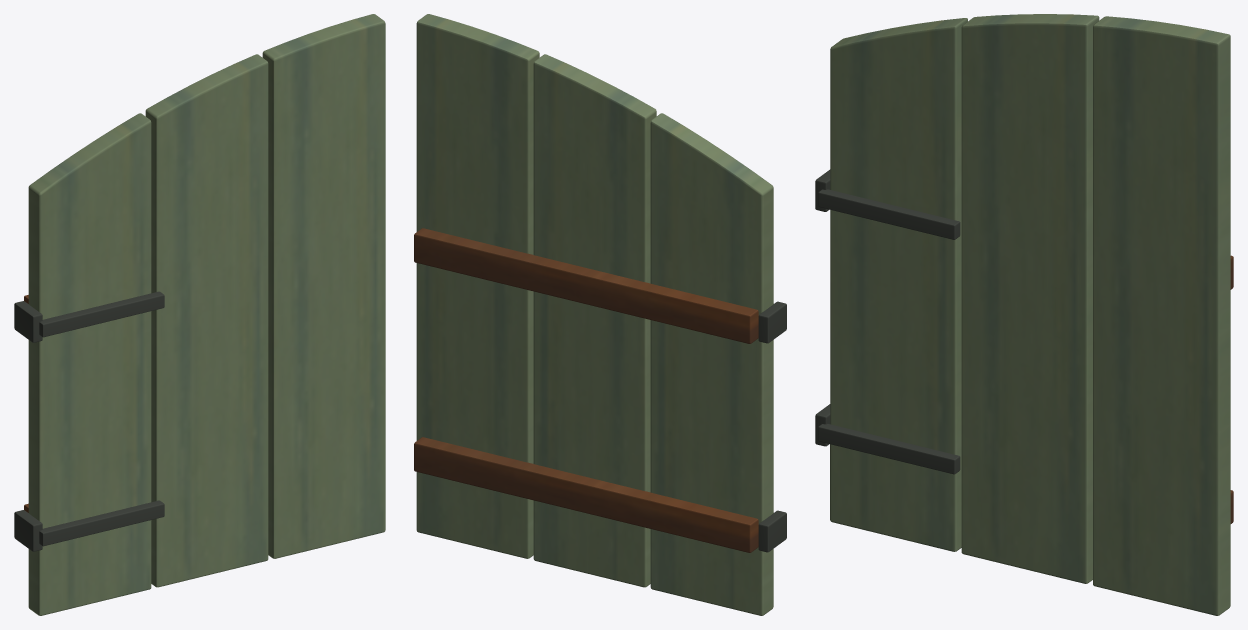
The model's file is CM_PairedWindowBay02_Shutter_R.fbx.
3 renders of one model, left to right at view 1: azimuth 30°, elevation 25°; view 2: azimuth 150°, elevation 25°; view 3: azimuth 330°, elevation 25°, orthographic. The views are drawn at different scales.
Parts seen in each view (by area): view 1: CM_PairedWindowBay02_Shutter_R_Geometry; view 2: CM_PairedWindowBay02_Shutter_R_Geometry; view 3: CM_PairedWindowBay02_Shutter_R_Geometry.
Boxes of the visible parts, box(x1,y1,x2,y2) form: CM_PairedWindowBay02_Shutter_R_Geometry: box(14, 14, 385, 615); CM_PairedWindowBay02_Shutter_R_Geometry: box(414, 14, 786, 615); CM_PairedWindowBay02_Shutter_R_Geometry: box(815, 14, 1233, 615).
Size of the model in its own units: 0.963 by 1.32 by 0.1255.
